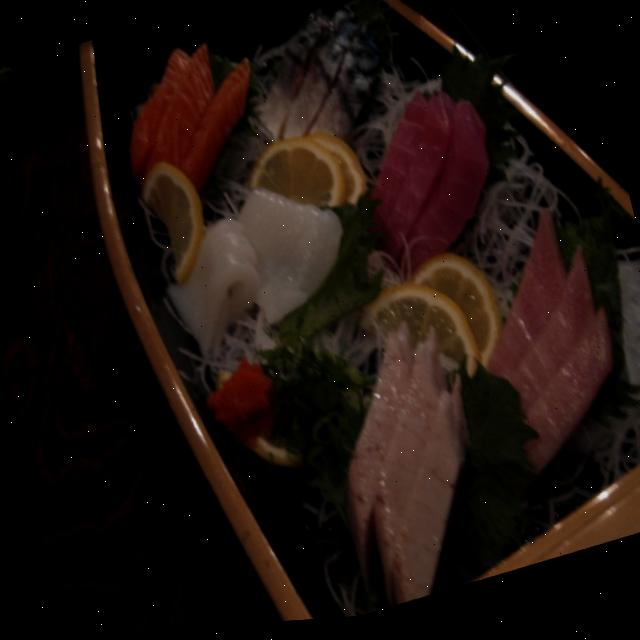刺身生食: (49, 0, 640, 637)
